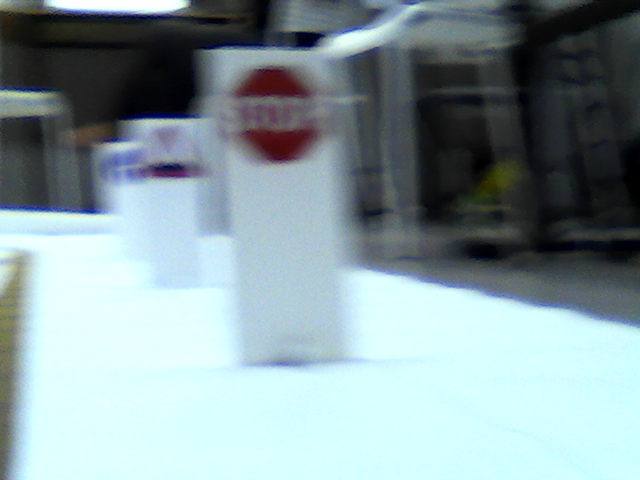Stop: (236, 67, 315, 155)
